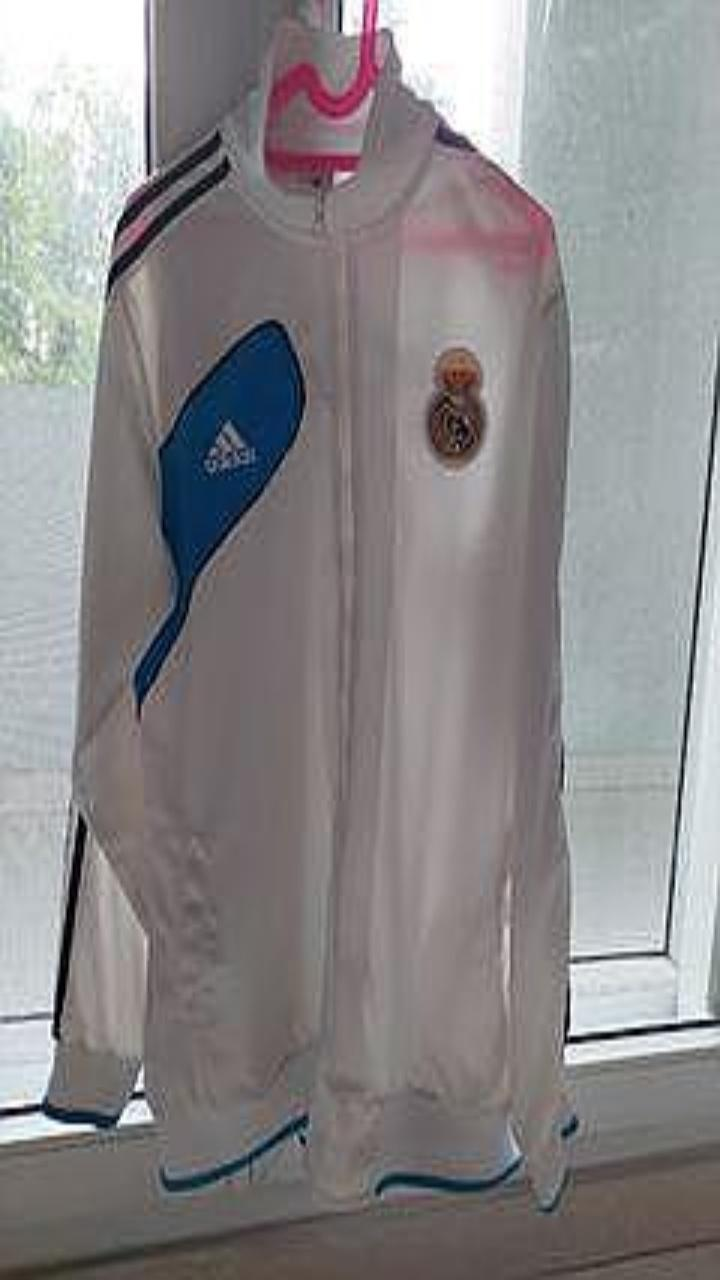Sports_Jacket: (44, 19, 576, 1207)
